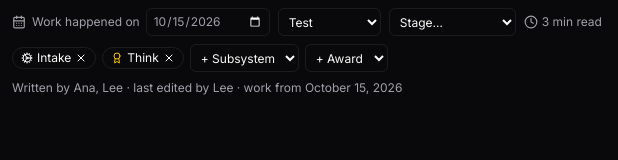
Notebook entry details › saves one field at a time and rolls back on an error
The image size is (618, 160).
Select "Iterate" in the dropdown named "Design stage": (452, 22) [389,8,516,36]
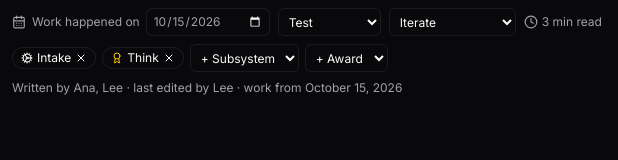
Chips are sent as relative changes.
Click the button named "Remove subsystem Intake": (81, 58) [75,52,87,64]
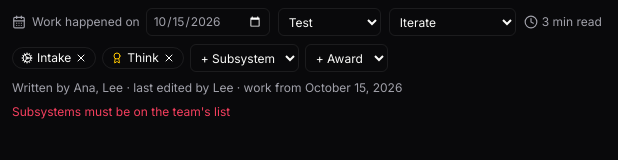
Check: the text "Intake" is shown, box [12,47,96,69]
Check: the message shows "team's list", box [12,104,230,119]
